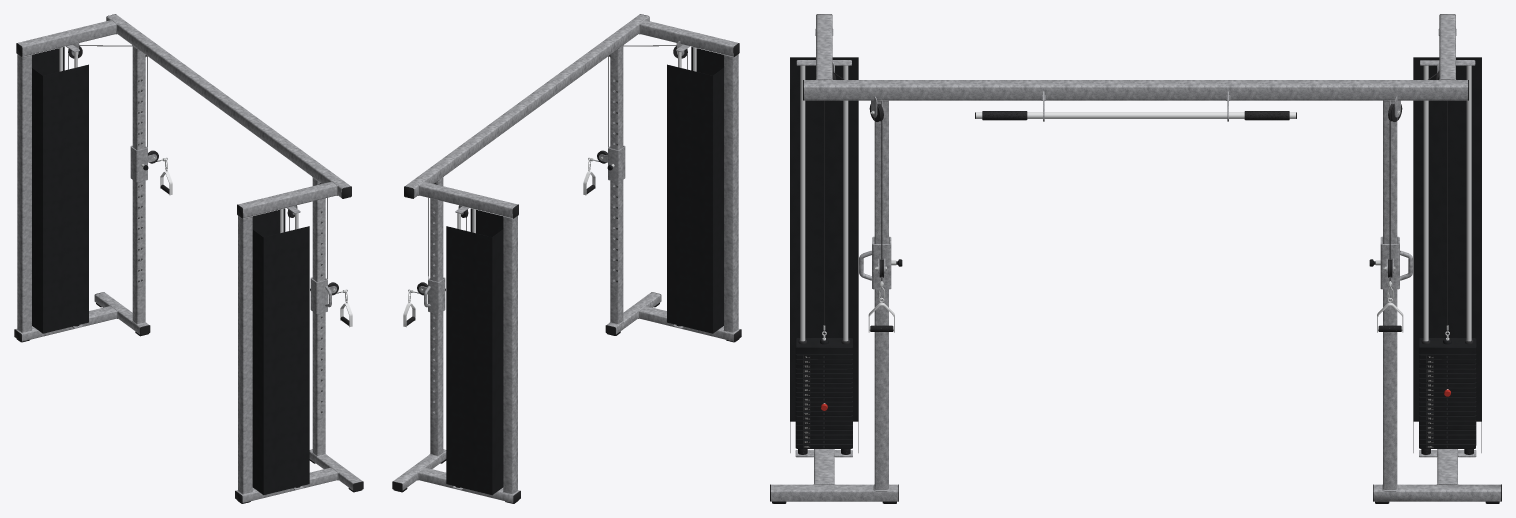
File: real_cable_crossover.glb
The picture shows the model from 3 angles, left to right: view 1: azimuth 30°, elevation 25°; view 2: azimuth 150°, elevation 25°; view 3: azimuth 270°, elevation 25°; orthographic projection. The views are drawn at different scales.
Visible parts, largest first — view 1: L Carriage pop pin, Front top crossbar, L Cable eye bolts, Crossbar End cap; view 2: L Carriage pop pin, Front top crossbar, L Cable eye bolts, Crossbar End cap; view 3: Front top crossbar, L Carriage pop pin, L Head plate, L Cable eye bolts, L Position number, L Crossover cable, Pull-up grip (foam).
Part boxes in pixels (x1,y1,x2,y2): L Carriage pop pin: [32, 47, 310, 495]; Front top crossbar: [15, 14, 362, 502]; L Cable eye bolts: [59, 47, 352, 327]; Crossbar End cap: [14, 14, 363, 503]; L Carriage pop pin: [445, 47, 723, 495]; Front top crossbar: [393, 14, 740, 502]; L Cable eye bolts: [403, 47, 696, 327]; Crossbar End cap: [392, 14, 741, 503]; Front top crossbar: [771, 14, 1500, 501]; L Carriage pop pin: [790, 57, 1481, 452]; L Head plate: [795, 338, 1476, 448]; L Cable eye bolts: [800, 65, 1471, 403]; L Position number: [803, 355, 1433, 448]; L Crossover cable: [824, 72, 1447, 331]; Pull-up grip (foam): [982, 111, 1289, 120].
Bounding box in the file's own units: 1.04 × 2.25 × 3.57.
Materials: 14 (7 with a texture image).
